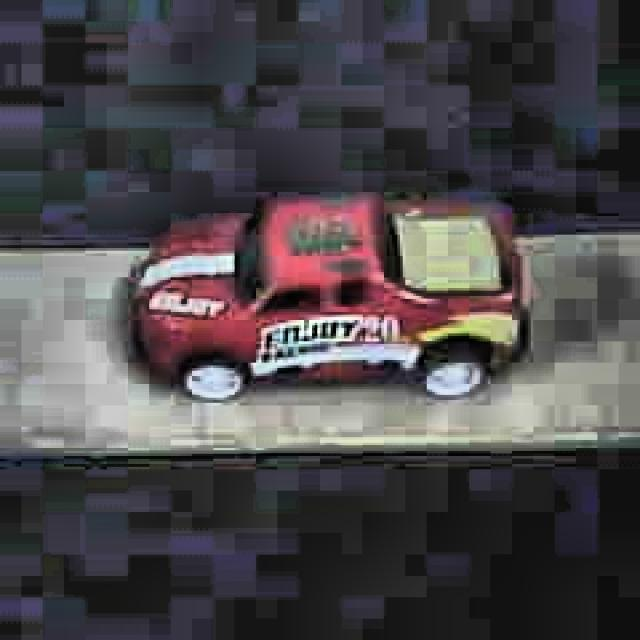car: (127, 190, 532, 401)
